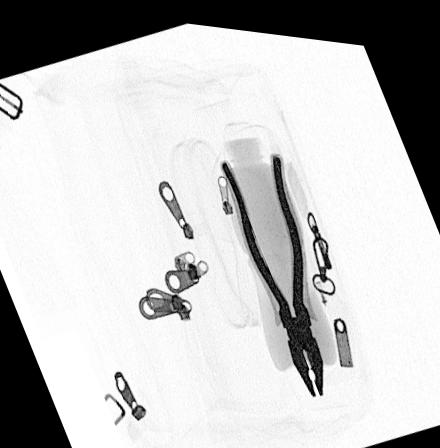Pliers: (218, 143, 327, 389)
